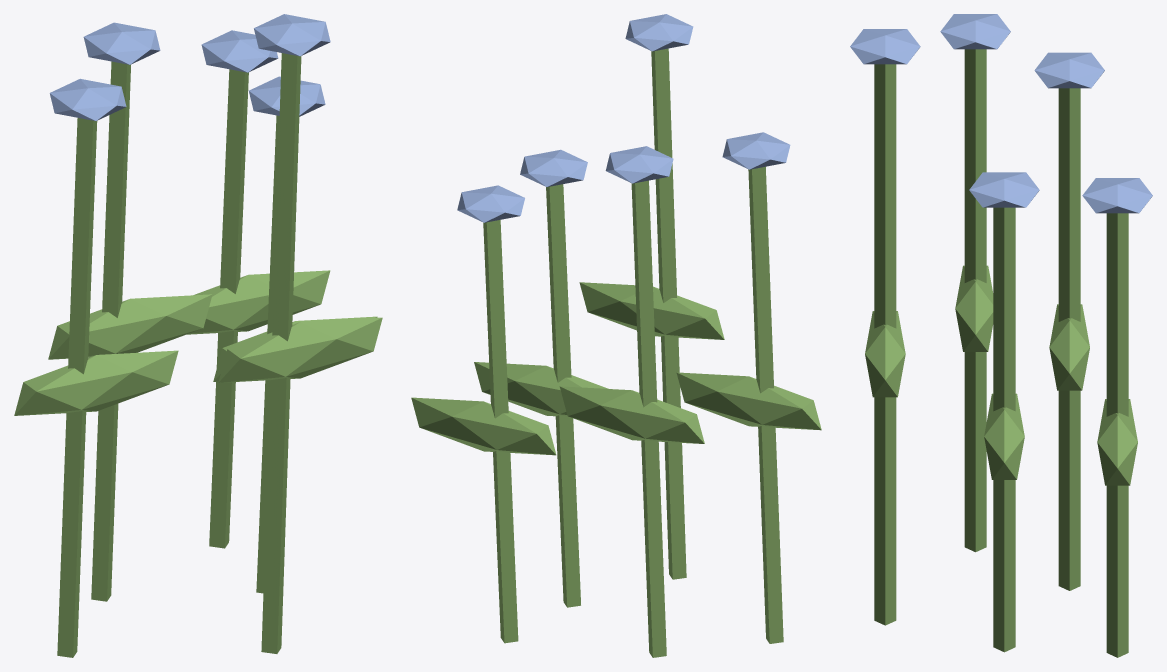
The model's file is crop_flax_ripe.glb.
3 views of the same model, side by side, from view 1: azimuth 30°, elevation 25°; view 2: azimuth 150°, elevation 25°; view 3: azimuth 270°, elevation 25° (orthographic). The views are drawn at different scales.
Visible parts, largest first — view 1: crop_flax_ripe; view 2: crop_flax_ripe; view 3: crop_flax_ripe.
Boxes of the visible parts, x1,y1,x2,y2 form: crop_flax_ripe: (14,14,382,657); crop_flax_ripe: (411,14,821,657); crop_flax_ripe: (850,14,1152,657).
Bounding box in the file's own units: 0.4692 × 0.714 × 0.3291.
